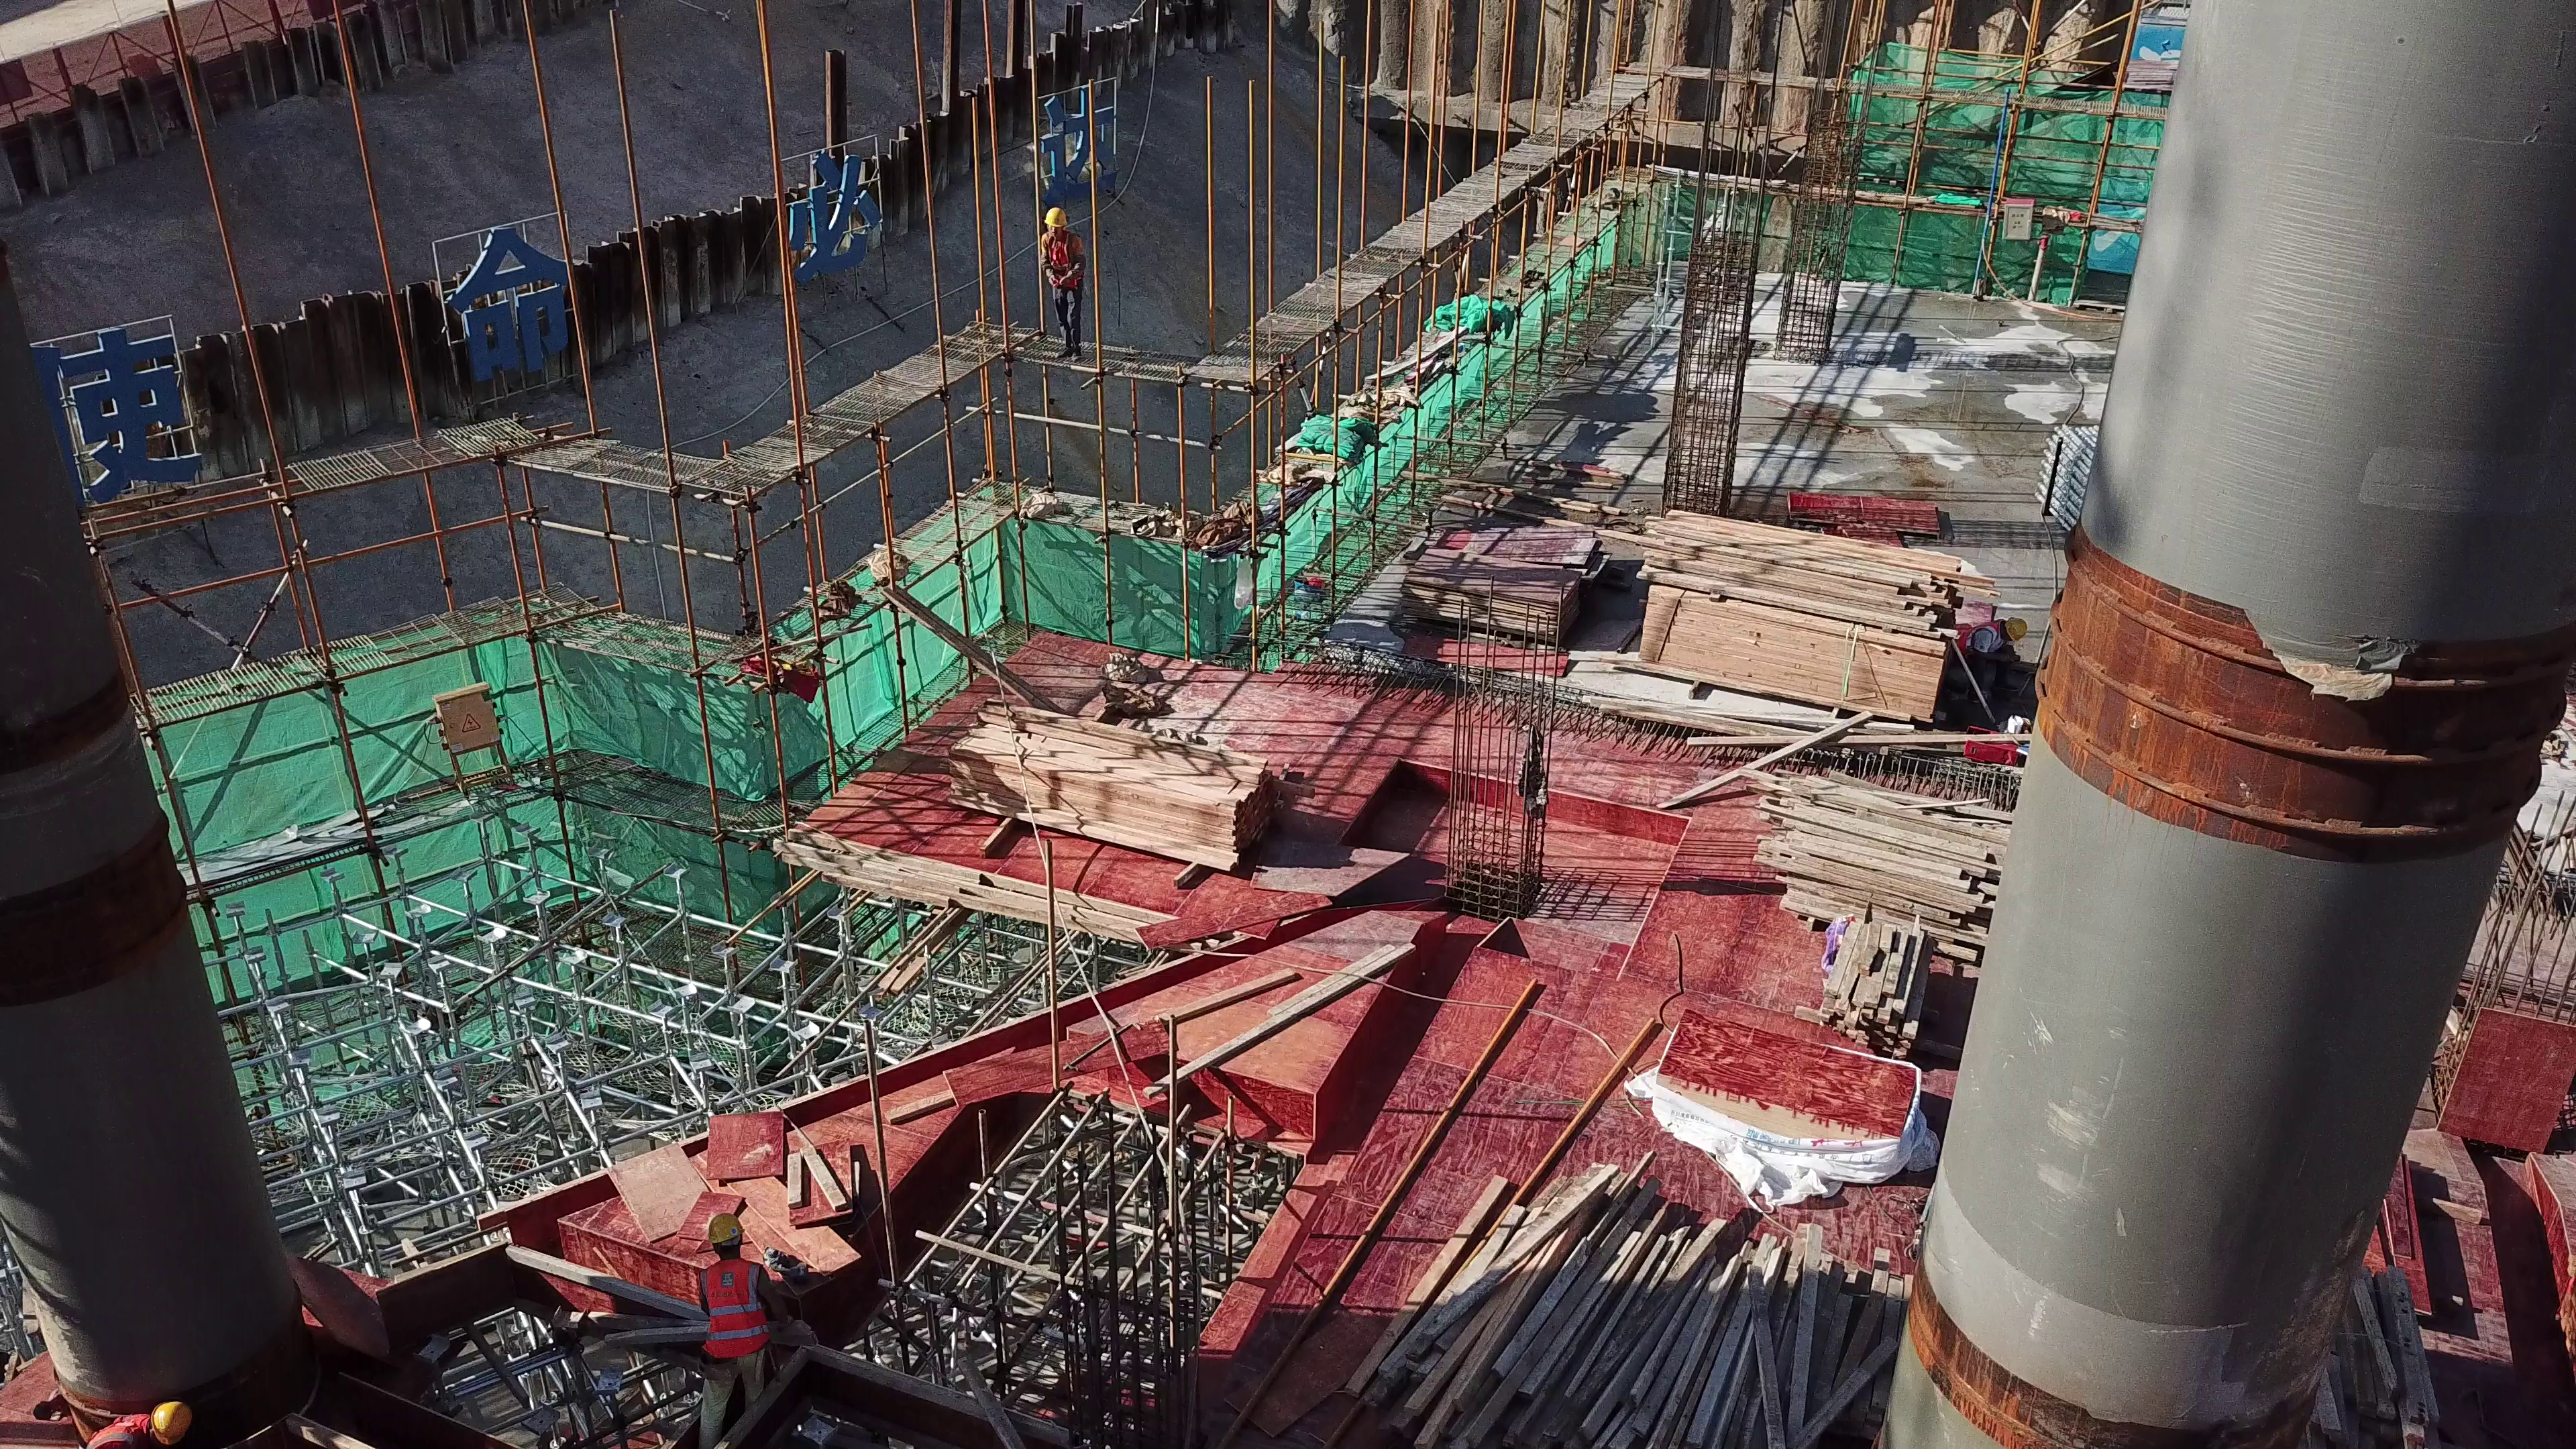board: (1655, 1010, 1926, 1183), (1400, 545, 1581, 644), (1437, 528, 1610, 586)
ebox: (433, 680, 514, 790)
helmet: (148, 1400, 194, 1446), (708, 1214, 747, 1245), (1043, 207, 1069, 227), (2006, 618, 2028, 641)
person: (687, 1211, 773, 1449), (1953, 612, 2031, 704), (1042, 207, 1086, 358), (83, 1400, 197, 1449)
scaffold: (2033, 419, 2100, 529)
vest: (697, 1252, 767, 1354), (1041, 231, 1087, 288), (85, 1411, 148, 1449)
wood: (1341, 1156, 1899, 1449), (1631, 502, 1951, 724), (949, 699, 1273, 869), (1755, 767, 2000, 965), (1823, 914, 1935, 1063)
